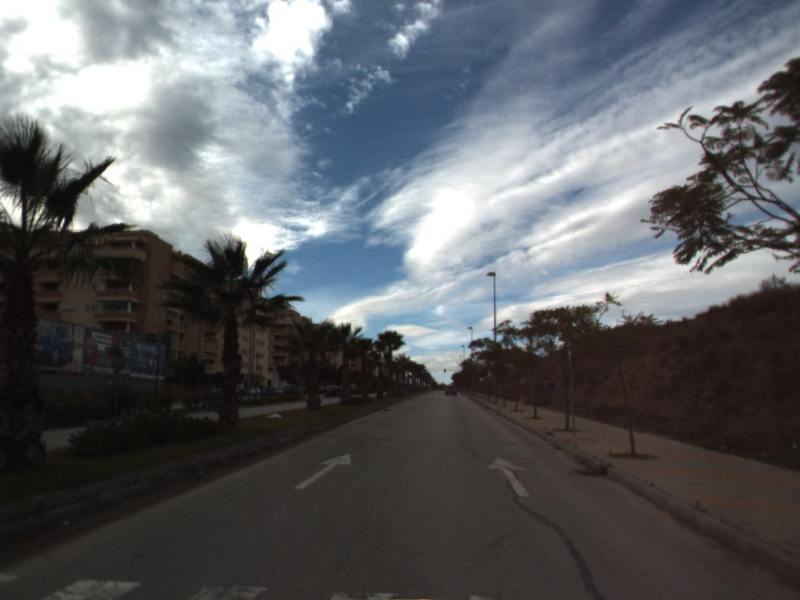STRAIGHT: (292, 451, 353, 491), (486, 454, 532, 499)
